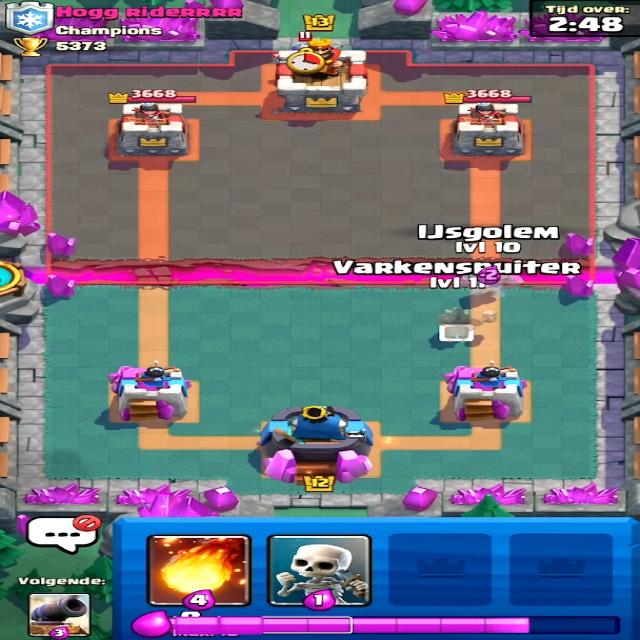Fireball_Card: (149, 534, 249, 606)
Skeleton_Card: (270, 535, 378, 605)
